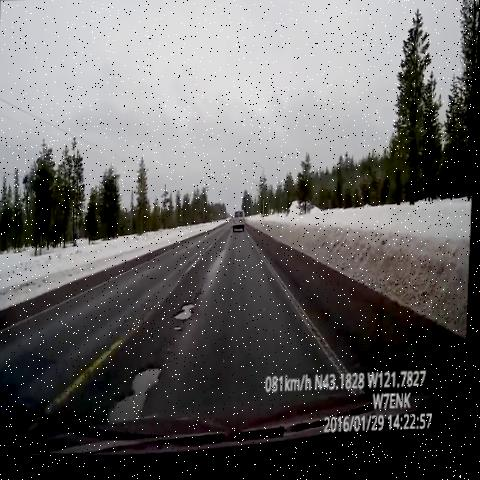pothole: (108, 360, 169, 433), (171, 285, 211, 339), (212, 238, 231, 261)
